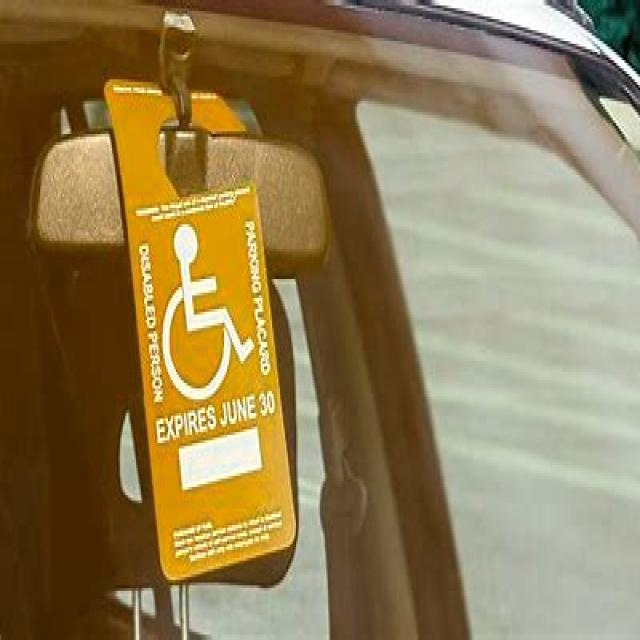ISA: (156, 225, 256, 402)
